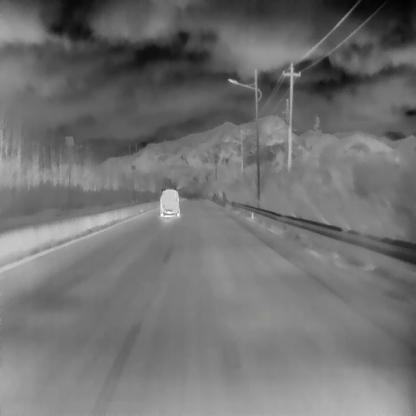car: (158, 187, 180, 218)
